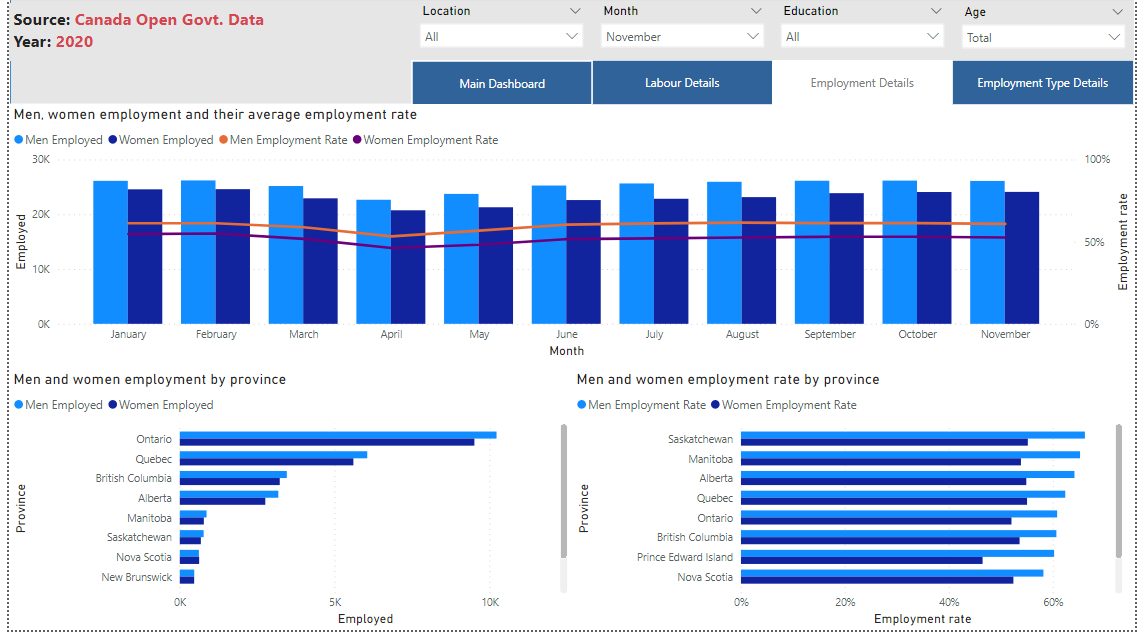

What the dashboard file says about the page in this screenshot:
{"tool":"powerbi","page":{"name":"Employment Details","canvas":[1280,720],"ordinal":2},"visuals":[{"type":"shape","box":[0,1.3,1280,120.8],"z":0},{"type":"lineClusteredColumnComboChart","title":"Men, women employment and their average employment rate","fields":{"Category":["data-2020.Date.Variation.Date Hierarchy.Month"],"Y2":["data-2020.Men emplyment rate","data-2020.Women emplyment rate"],"Y":["LabourForceByEducation.Men Employed","LabourForceByEducation.Women Employed"]},"box":[0,123.4,1278.7,291.7],"z":1000},{"type":"clusteredBarChart","title":"Men and women employment by province","fields":{"Category":["data-2020.Location"],"Y":["LabourForceByEducation.Men Employed","LabourForceByEducation.Women Employed"]},"box":[0,424.1,640,295.6],"z":2000},{"type":"clusteredBarChart","title":"Men and women employment rate by province","fields":{"Category":["data-2020.Location"],"Y":["LabourForceByEducation.Men Employment Rate","LabourForceByEducation.Women Employment Rate"]},"box":[640,424.1,631,295.6],"z":3000},{"type":"slicer","fields":{"Values":["data-2020.Location"]},"box":[457.8,2.6,205.6,68.1],"z":4000},{"type":"slicer","fields":{"Values":["data-2020.Date.Variation.Date Hierarchy.Month"]},"box":[663.4,2.6,205.6,68.1],"z":5000},{"type":"slicer","fields":{"Values":["data-2020.Education"]},"box":[867.8,2.6,205.6,68.1],"z":6000},{"type":"slicer","fields":{"Values":["data-2020.Age"]},"box":[1073.4,3,206,68],"z":7000},{"type":"actionButton","box":[457.5,72,205.6,51.4],"z":8000},{"type":"actionButton","box":[663.1,72,205.6,51.4],"z":9000},{"type":"actionButton","box":[867.5,72,205.6,51.4],"z":10000},{"type":"actionButton","box":[1073.1,72,206.9,51.4],"z":11000},{"type":"textbox","box":[0,6.4,317.4,65.5],"z":12000}]}

Visuals, with their boxes in screenshot pixels (x1, y1, x2, y2), scaled from the page's 1280x720 canvas onto the 1141x637 screenshot:
shape: {"left": 0, "top": 1, "right": 1140, "bottom": 108}
"Men, women employment and their average employment rate" lineClusteredColumnComboChart: {"left": 0, "top": 109, "right": 1140, "bottom": 367}
"Men and women employment by province" clusteredBarChart: {"left": 0, "top": 375, "right": 570, "bottom": 636}
"Men and women employment rate by province" clusteredBarChart: {"left": 570, "top": 375, "right": 1133, "bottom": 636}
slicer - data-2020.Location: {"left": 408, "top": 2, "right": 591, "bottom": 63}
slicer - data-2020.Date.Variation.Date Hierarchy.Month: {"left": 591, "top": 2, "right": 775, "bottom": 63}
slicer - data-2020.Education: {"left": 774, "top": 2, "right": 957, "bottom": 63}
slicer - data-2020.Age: {"left": 957, "top": 3, "right": 1140, "bottom": 63}
actionButton: {"left": 408, "top": 64, "right": 591, "bottom": 109}
actionButton: {"left": 591, "top": 64, "right": 774, "bottom": 109}
actionButton: {"left": 773, "top": 64, "right": 957, "bottom": 109}
actionButton: {"left": 957, "top": 64, "right": 1140, "bottom": 109}
textbox: {"left": 0, "top": 6, "right": 283, "bottom": 64}
